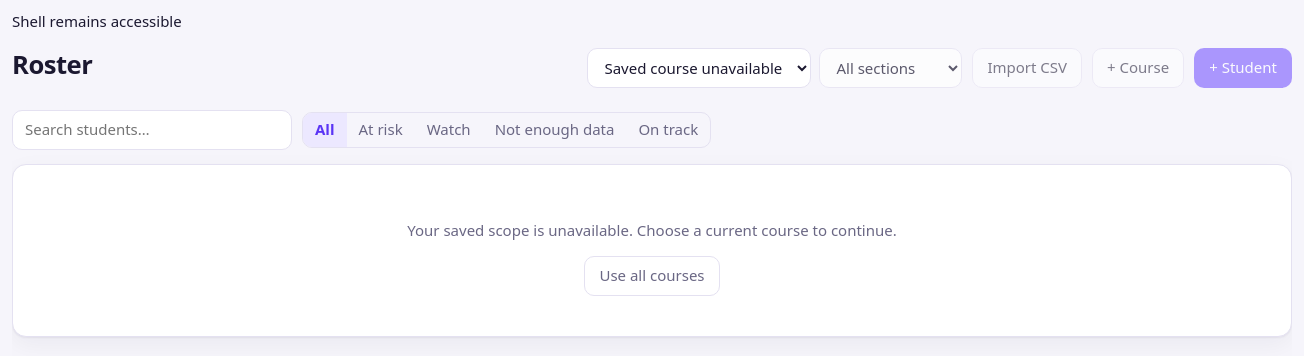
Test: saved scope hydration › missing or incompatible saved IDs {"courseId":"missing-course","sectionId":null} require explicit scope choice
The image size is (1304, 356).
Expected: the text "Your saved scope is unavailable. Choose a current course to continue." is shown, [407,220,897,240]
Expected: the text "CHOSEN SCOPE" is not shown
Click the button "Use all courses".
click(652, 276)  # box [584,256,720,296]
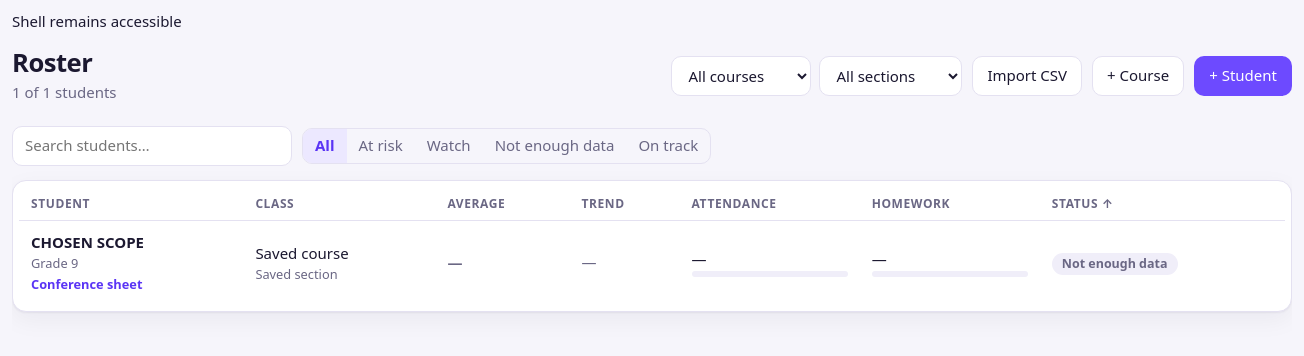
Expected: the link "CHOSEN SCOPE" is shown, [31,232,144,252]
